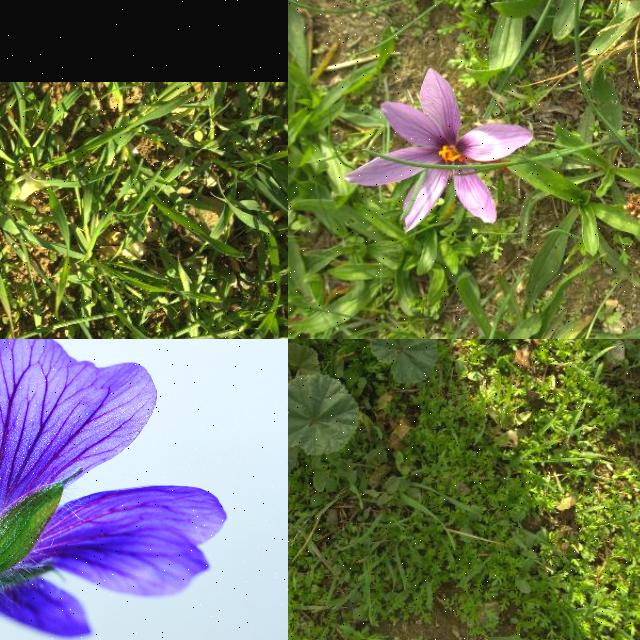flower: (343, 70, 533, 232)
